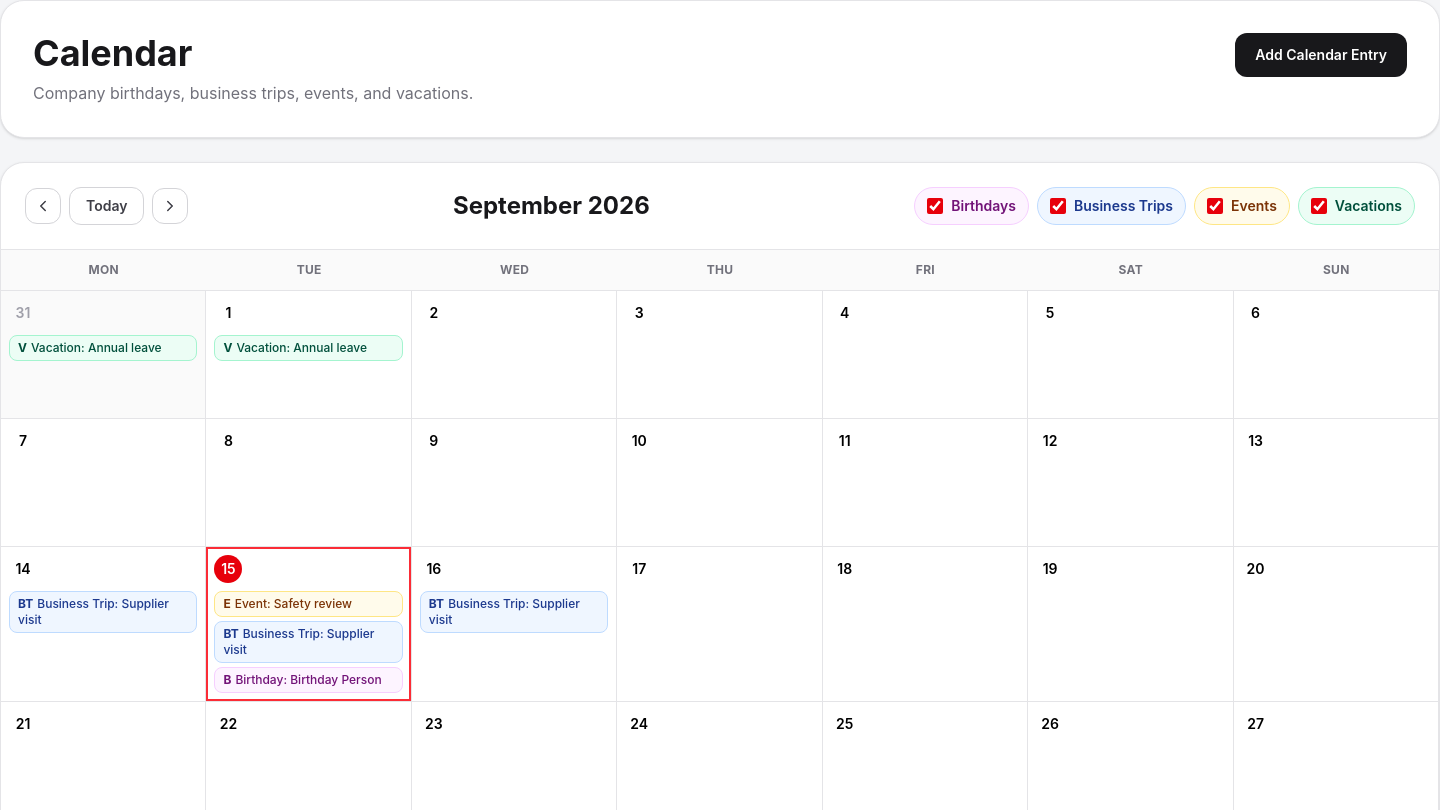
Scenario: CalendarPage › requires confirmation for Remove and keeps stale failure visible
What coordinates should you click on to do the following:
click the button "EEvent: Safety review"
I would click on:
 (309, 604)
Its box is [215,592,402,616].
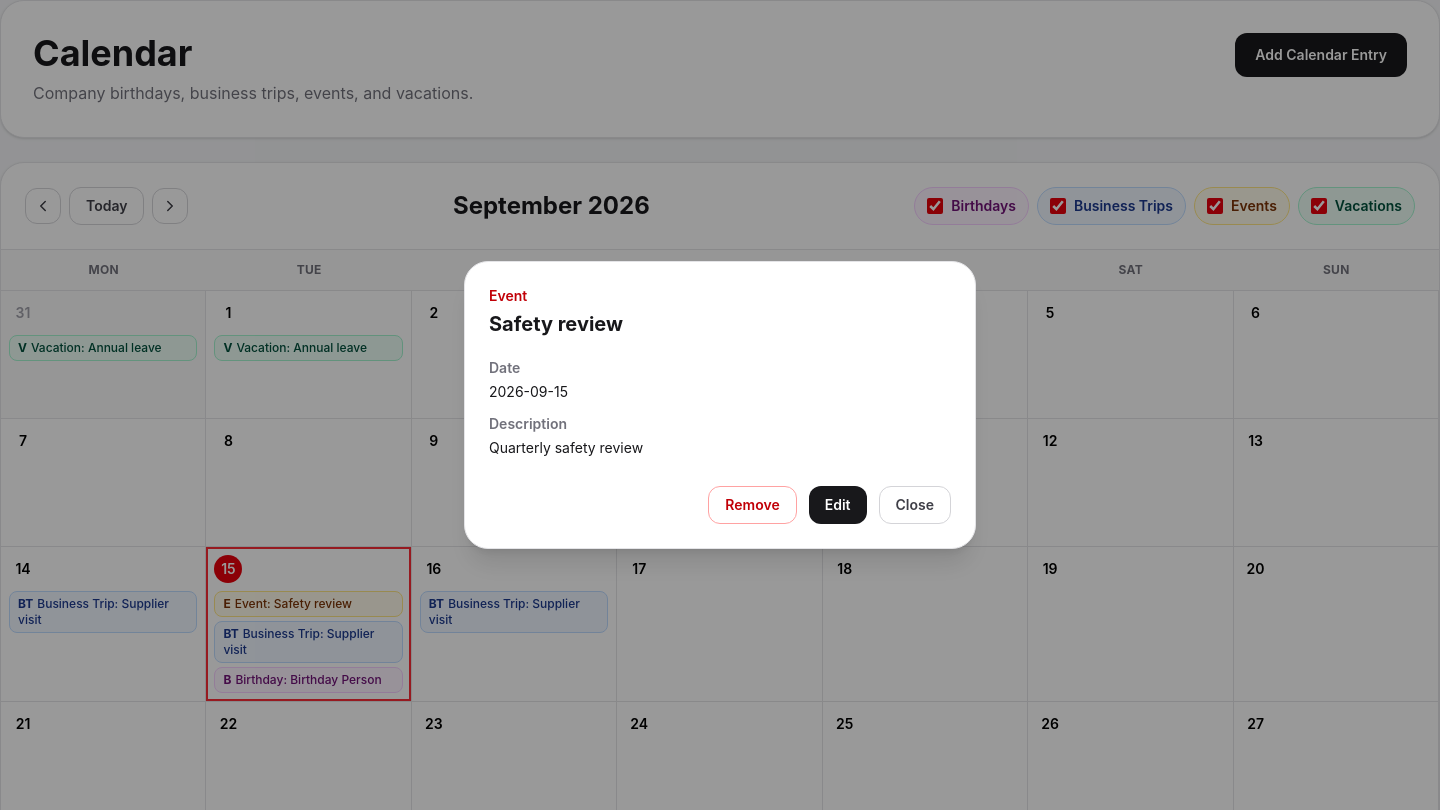
What coordinates should you click on to do the following:
click the button "Remove"
I would click on:
 (752, 505)
Its box is [708,486,797,524].
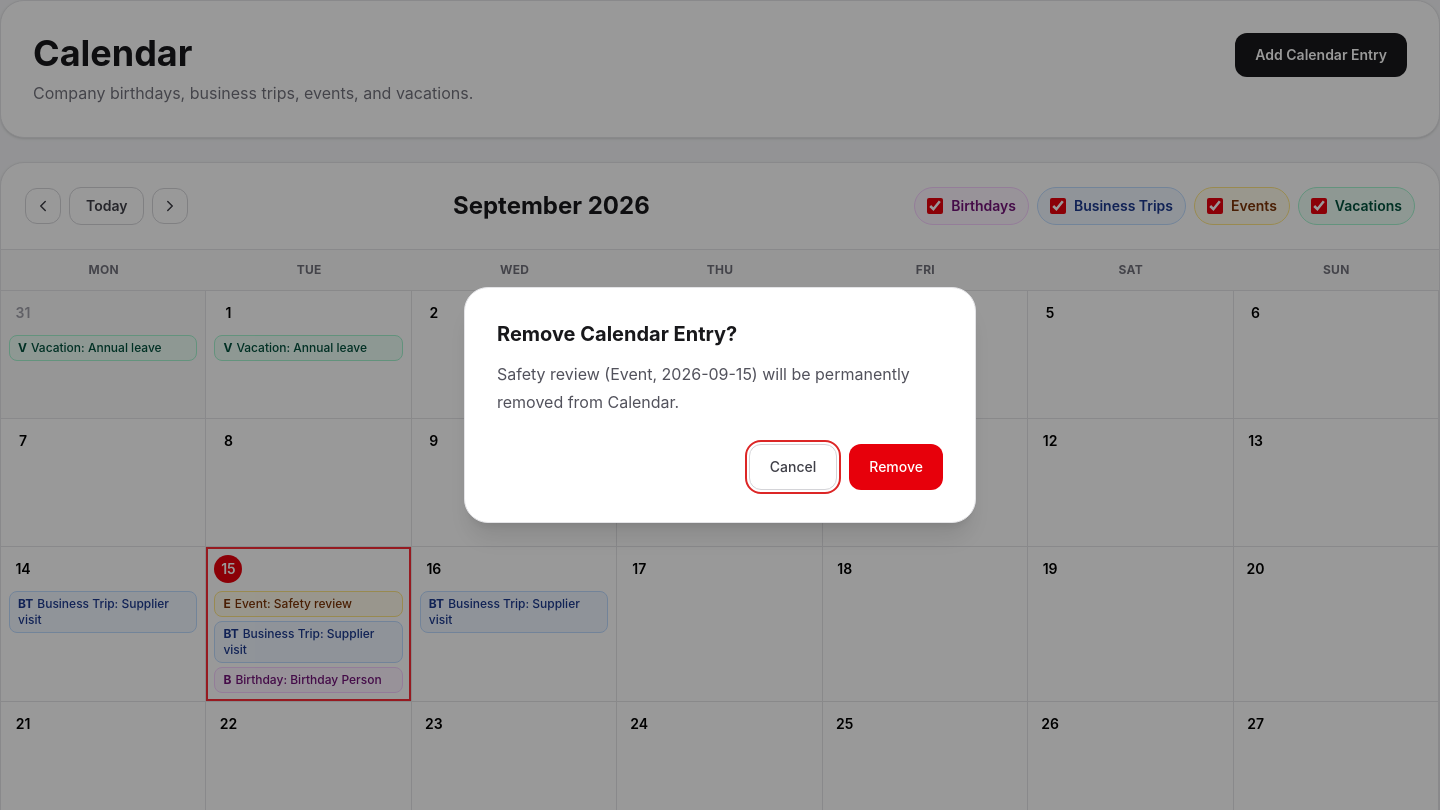
Check: the dialog "Remove Calendar Entry?" shows "Safety review", box [497,364,910,412]
Check: the dialog "Remove Calendar Entry?" shows "Event", box [497,364,910,412]
Check: the dialog "Remove Calendar Entry?" shows "permanently removed", box [497,364,910,412]
What coordinates should you click on to do the following:
click the button "Remove"
I would click on:
 (896, 467)
Its box is [849,444,943,490].
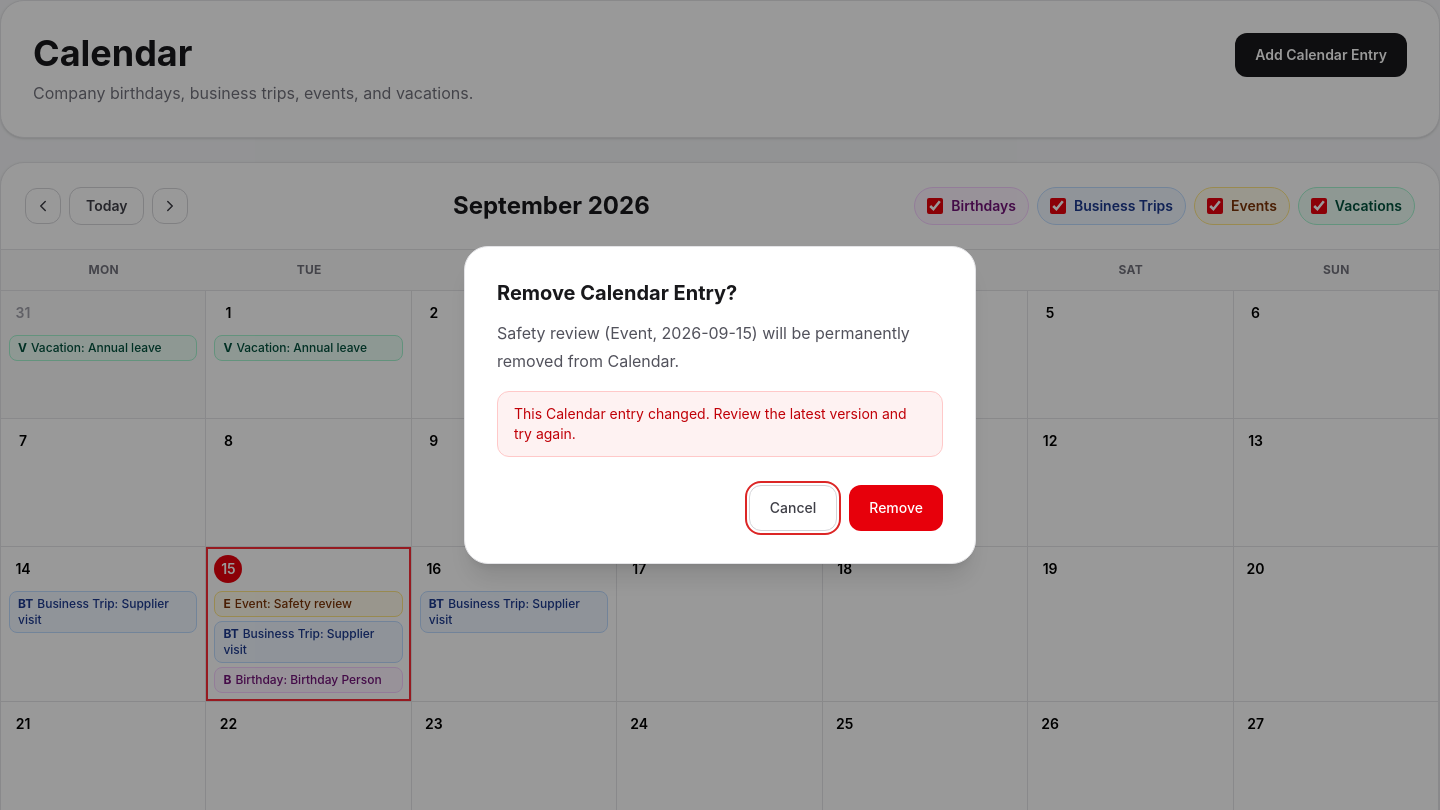
Check: the message shows "changed", box [514,405,907,442]
